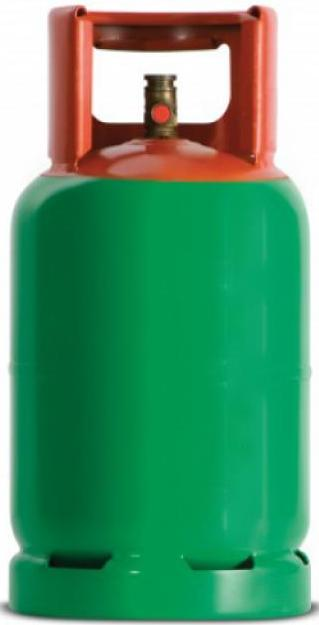cylinder: (1, 0, 319, 625)
